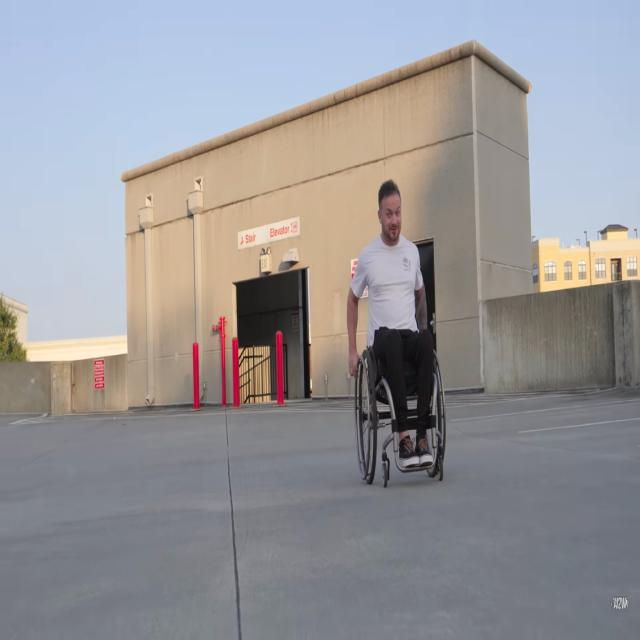wheelchairs: (350, 332, 458, 485)
